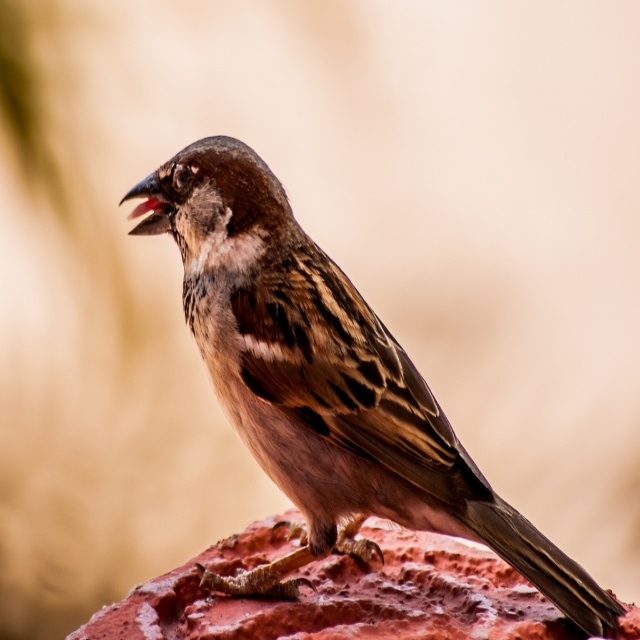Sparrow: (116, 130, 628, 639)
